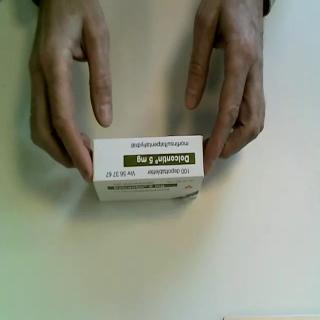dolcontin5mg: (92, 134, 206, 204)
